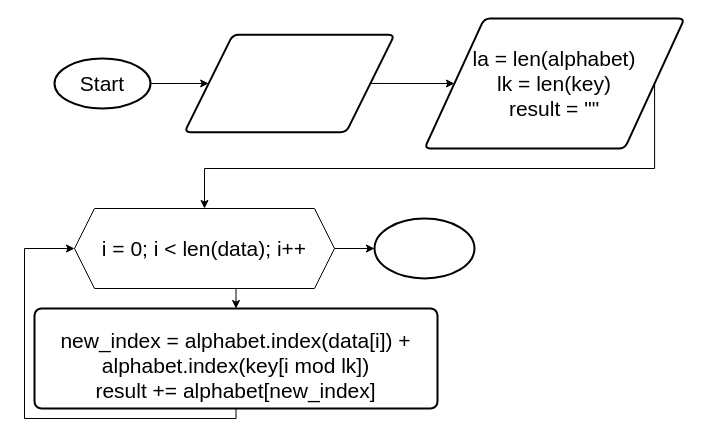
The diagram is 703 pixels wide and 444 high, and some of its shapes have lost their labels. The centre of each missing label's shape, as x and y in pixels:
data alphabet key: (x=289, y=83)
End: (x=424, y=248)
